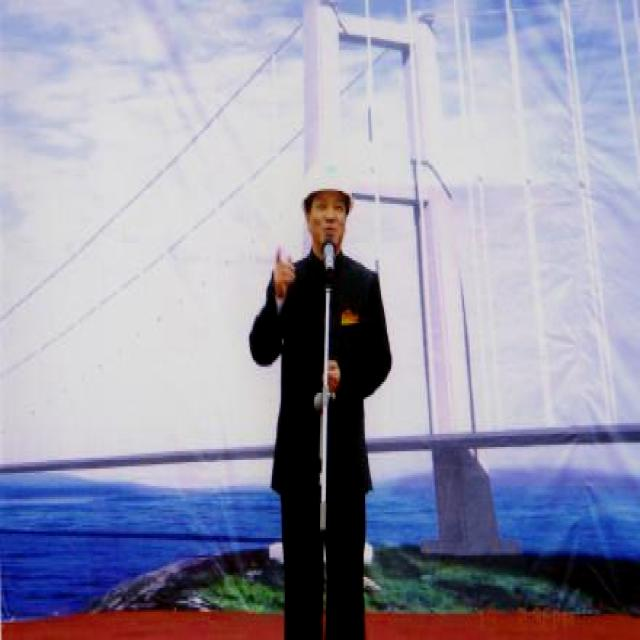face_nomask: (304, 191, 348, 256)
hand_noglove: (272, 245, 301, 310), (321, 352, 345, 404)
head_helmet: (290, 143, 362, 206)
person: (262, 137, 378, 622)
